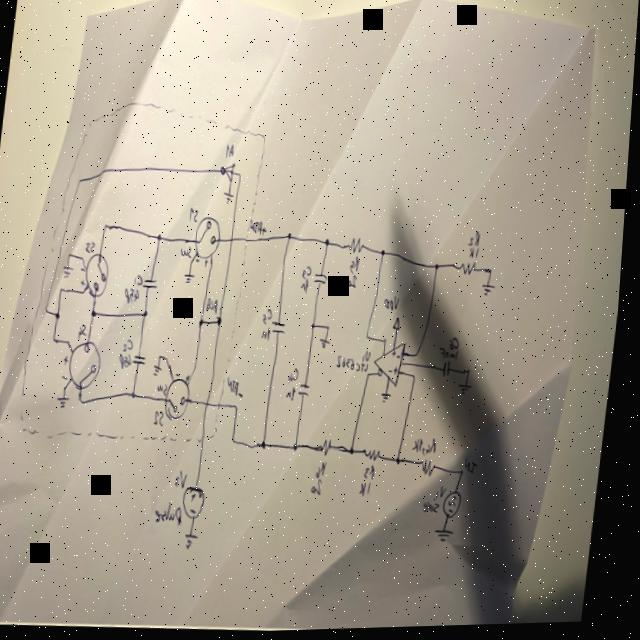capacitor: (274, 320, 290, 337), (317, 271, 332, 287), (145, 277, 162, 290), (302, 383, 316, 398), (136, 353, 152, 366), (446, 361, 456, 381)
crossover: (232, 235, 238, 244), (210, 400, 214, 408)
ground: (440, 529, 462, 545), (190, 532, 206, 551), (483, 283, 500, 299), (462, 384, 478, 398), (61, 395, 76, 408), (65, 264, 78, 278), (224, 191, 237, 205), (323, 338, 336, 350), (385, 393, 397, 405), (187, 272, 200, 283), (157, 364, 168, 377)
junction: (82, 395, 90, 406), (94, 306, 101, 318), (289, 231, 297, 241), (58, 309, 66, 319), (418, 350, 426, 360), (219, 316, 227, 326), (327, 237, 334, 248), (298, 442, 305, 453), (401, 456, 408, 467), (314, 322, 321, 332), (354, 447, 361, 457), (202, 317, 209, 327), (266, 440, 273, 450), (105, 221, 112, 231), (159, 233, 166, 242), (146, 309, 153, 318), (383, 249, 389, 258), (416, 373, 422, 382), (239, 403, 245, 412), (491, 269, 497, 277), (136, 390, 141, 399), (56, 335, 61, 344), (438, 263, 443, 271), (237, 436, 242, 444), (80, 176, 85, 184), (387, 337, 392, 345), (48, 304, 52, 312), (465, 471, 470, 477), (70, 338, 75, 344), (63, 286, 67, 293), (472, 369, 476, 376), (192, 260, 197, 265), (197, 365, 202, 370), (70, 251, 74, 257), (68, 385, 72, 391), (84, 255, 88, 261), (169, 356, 173, 362), (162, 354, 166, 360), (370, 335, 374, 340), (213, 262, 217, 267), (241, 173, 244, 179), (85, 289, 88, 295), (331, 325, 334, 331), (371, 373, 374, 378)
resistor: (349, 236, 369, 256), (460, 260, 481, 278), (425, 459, 443, 479), (368, 447, 388, 463), (325, 438, 339, 457)
source: (187, 485, 213, 520), (448, 492, 469, 520), (396, 317, 406, 333)
switch: (64, 339, 109, 391), (194, 215, 226, 269), (83, 250, 115, 299), (168, 374, 198, 421)
text: (160, 499, 191, 527), (341, 354, 375, 375), (230, 376, 250, 400), (251, 219, 271, 237), (427, 437, 444, 458), (429, 498, 448, 516), (442, 348, 464, 363), (127, 285, 144, 304), (181, 468, 195, 490), (387, 296, 404, 314), (469, 458, 485, 477), (209, 296, 225, 314), (122, 352, 138, 369), (470, 231, 484, 250), (417, 437, 431, 454), (292, 367, 304, 386), (158, 409, 171, 426), (369, 464, 382, 481), (365, 482, 378, 499), (266, 308, 278, 326), (322, 461, 334, 479), (317, 479, 329, 497), (160, 381, 173, 397), (442, 485, 454, 502), (190, 206, 202, 223), (353, 256, 364, 274), (81, 322, 92, 340), (182, 244, 195, 258), (88, 239, 100, 254), (127, 337, 139, 352), (304, 265, 316, 280), (453, 338, 465, 353), (471, 247, 483, 262), (227, 143, 237, 160), (304, 278, 314, 295), (265, 327, 276, 342), (350, 275, 361, 289), (291, 387, 301, 402), (366, 350, 376, 364), (67, 353, 74, 365), (66, 371, 72, 383), (190, 374, 195, 382), (85, 265, 89, 274), (393, 369, 398, 375), (84, 279, 89, 284), (401, 355, 405, 361), (397, 351, 401, 357), (208, 260, 212, 265), (399, 368, 402, 374), (181, 373, 185, 377), (199, 258, 202, 263)
